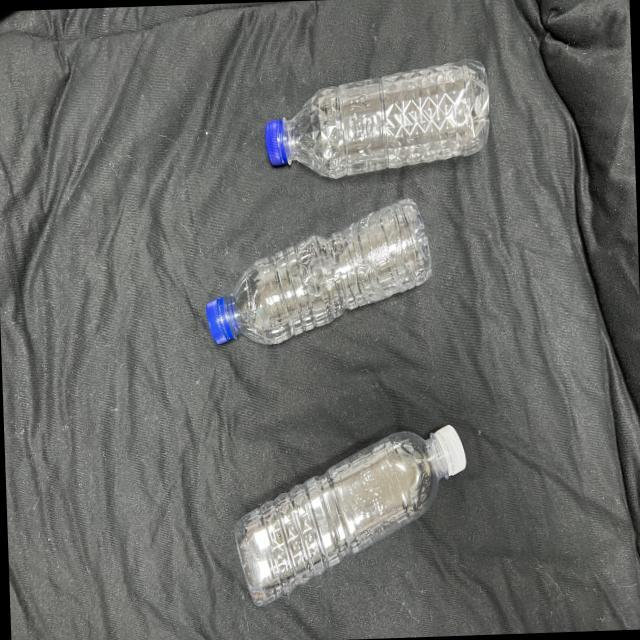good: (227, 398, 480, 618), (186, 182, 448, 377), (255, 49, 499, 190)
